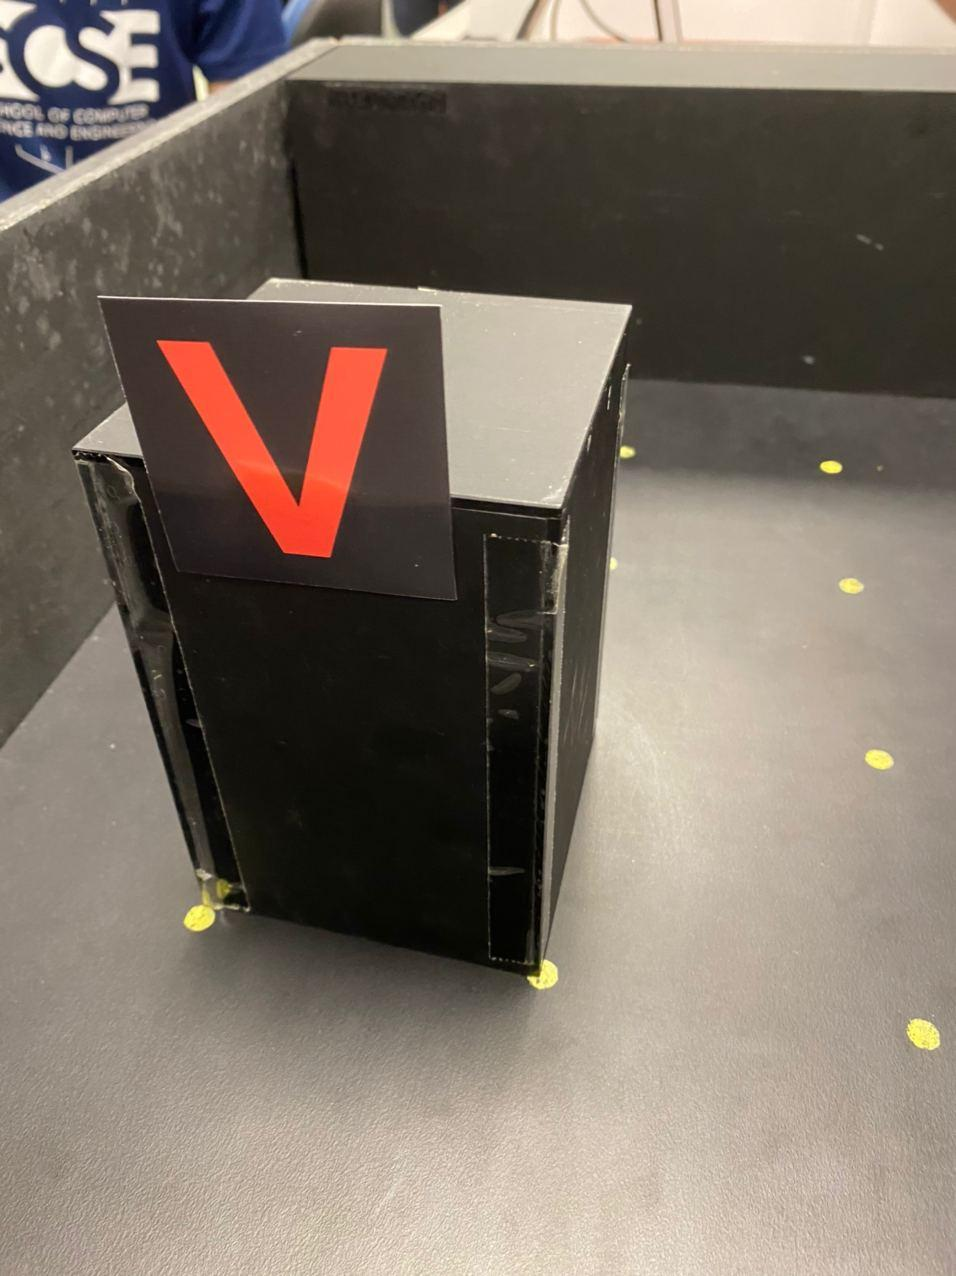v: (145, 318, 401, 566)
